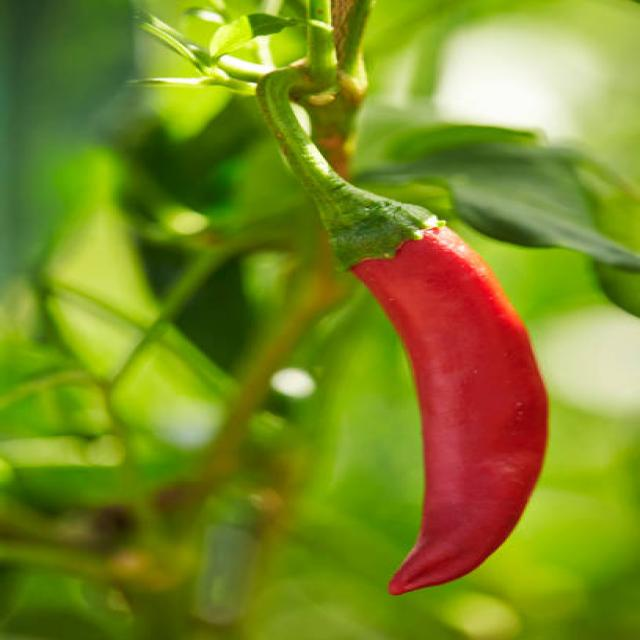Ripe: (353, 228, 546, 594)
